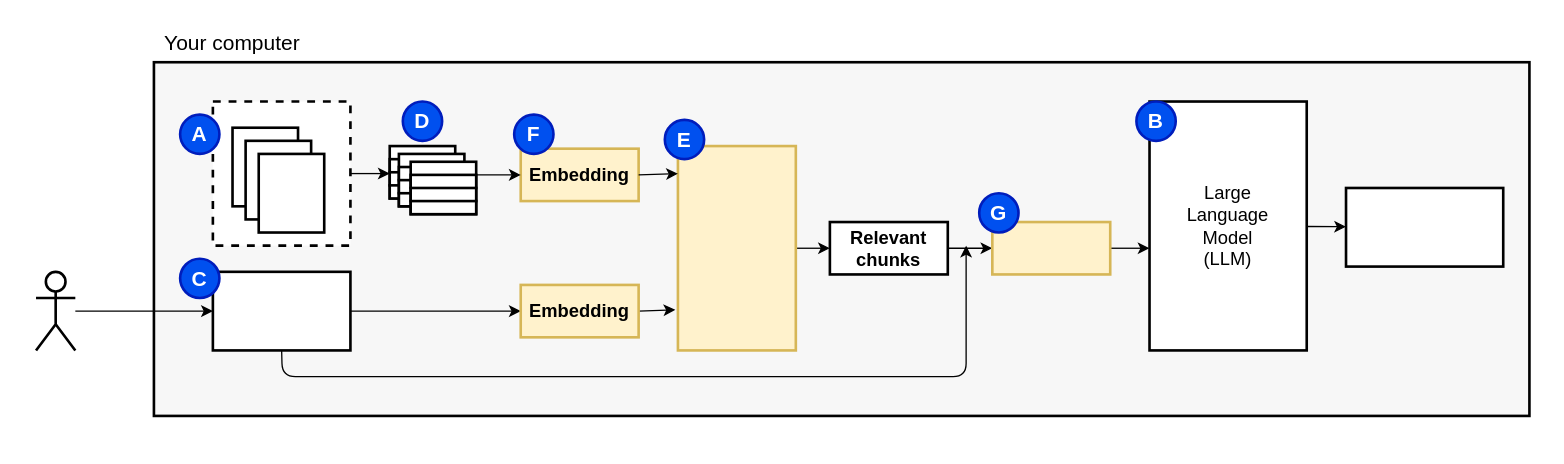
The diagram is 1564 pixels wide and 464 high, and some of its shapes have lost their labels. Each missing label, with the box of its shape:
Answer: (1344, 186, 1504, 267)
Prompt: (990, 220, 1111, 275)
Question: (211, 270, 351, 351)
Similarity search: (676, 144, 796, 351)
